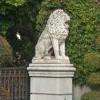Statue: (27, 6, 74, 79)
